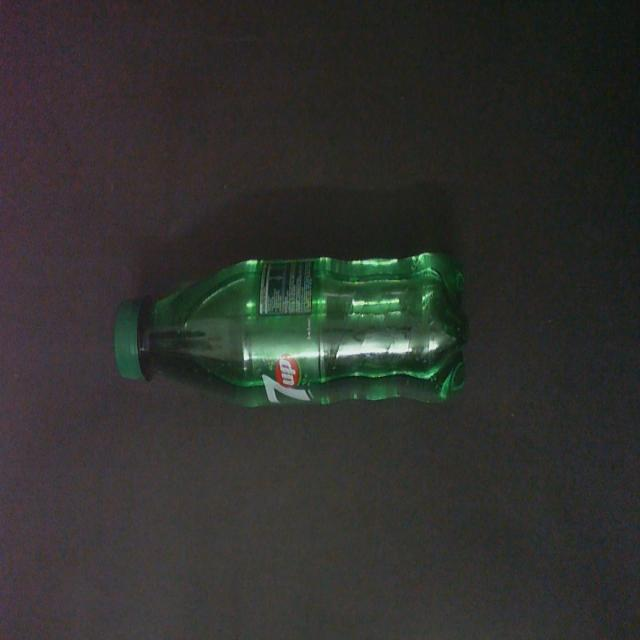non-defect: (111, 246, 471, 412)
